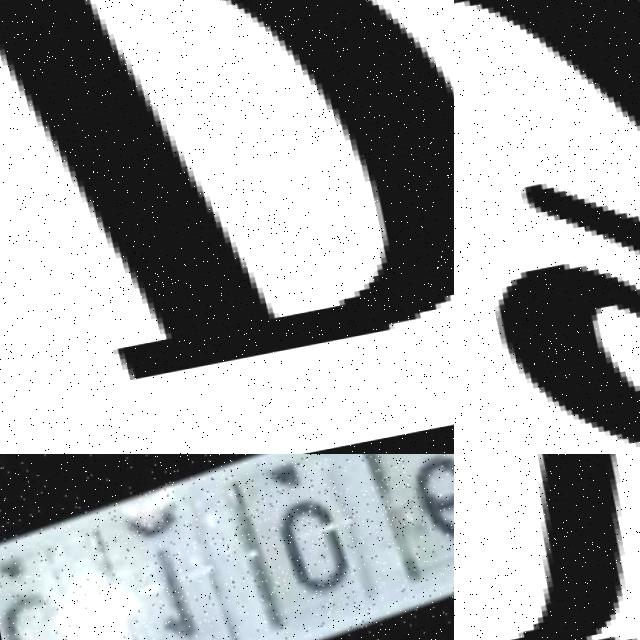0: (248, 483, 359, 615), (0, 575, 80, 640)
1: (116, 537, 217, 640)
3: (454, 0, 640, 454)
6: (386, 454, 454, 574)
D: (0, 0, 454, 423)
R: (454, 454, 640, 640)
